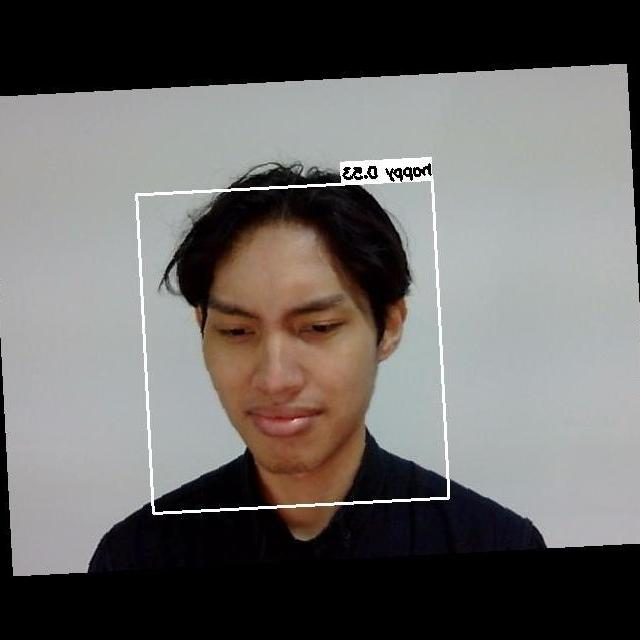Disgust: (185, 268, 391, 447)
